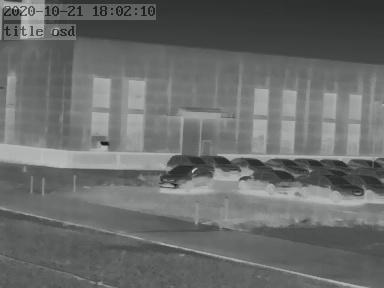vehicle: (163, 160, 215, 192), (238, 168, 304, 193), (306, 173, 359, 200), (351, 173, 384, 200), (205, 154, 243, 177), (260, 154, 303, 172), (233, 154, 272, 172), (345, 156, 379, 171), (316, 156, 348, 170), (295, 156, 325, 170)
